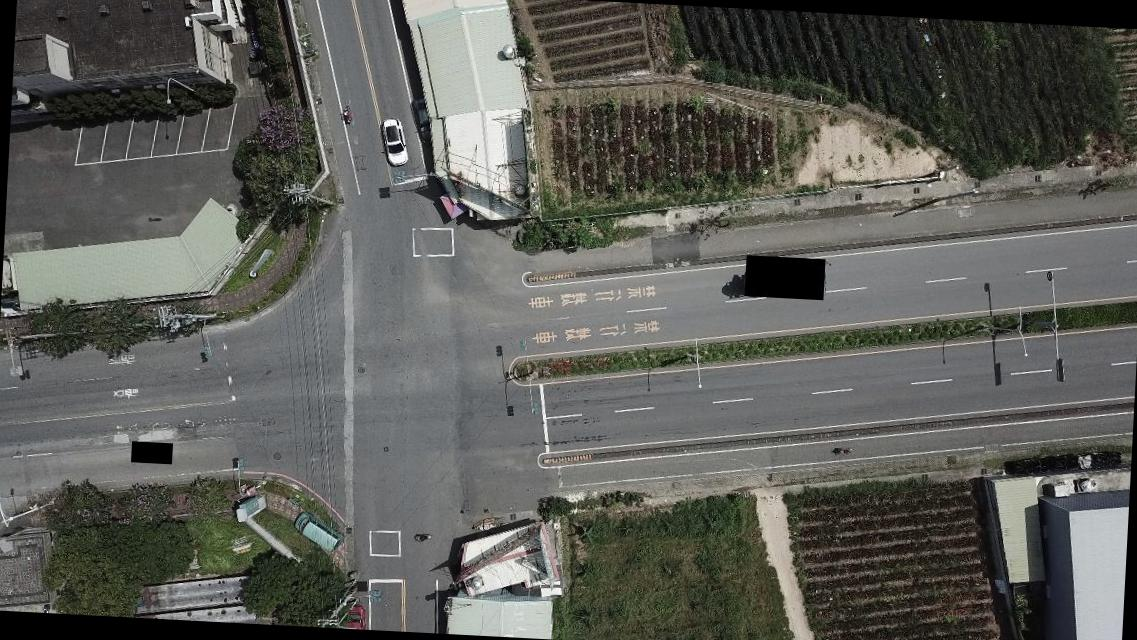vehicle: (292, 514, 344, 554), (378, 116, 410, 166), (415, 98, 430, 142), (343, 604, 366, 628)
